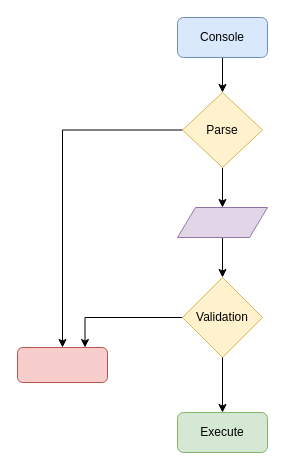
Some shapes in this 285 by 470 pixel diagram are drawn without their labels. Here are the shapes that lost their labels. From the top down, the centre of each, then its label:
point (222, 222): args
point (62, 364): Error
